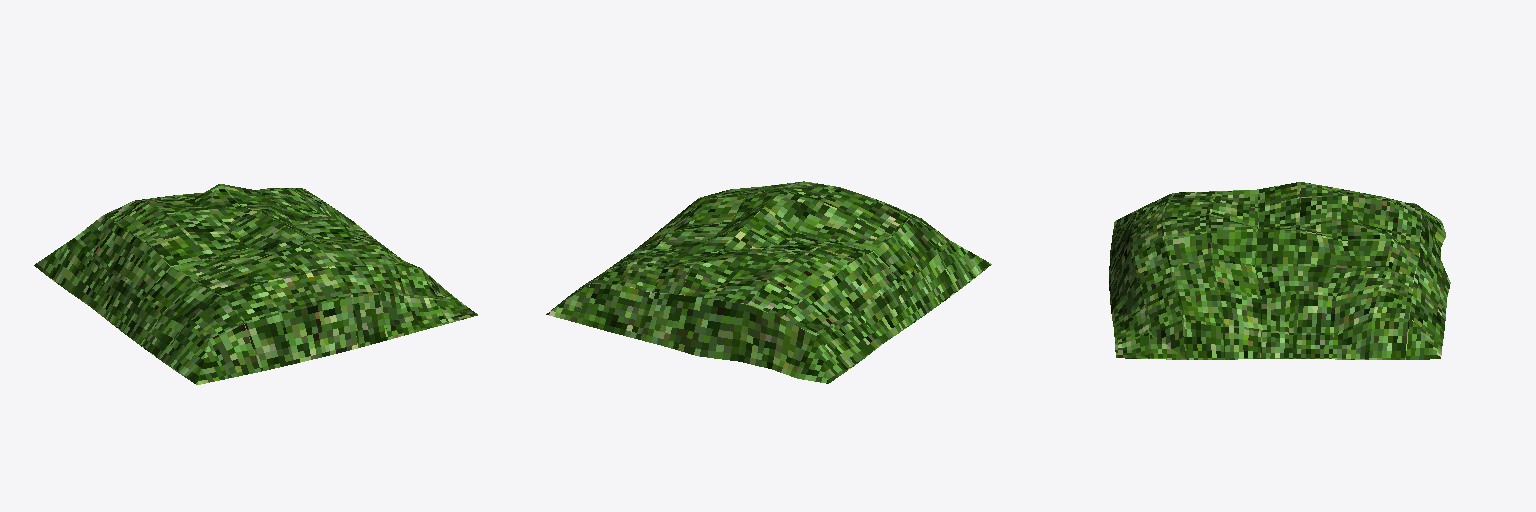
The picture shows the model from 3 angles: view 1: azimuth 30°, elevation 25°; view 2: azimuth 150°, elevation 25°; view 3: azimuth 270°, elevation 25°; orthographic projection.
Size of the model in its own units: 16.35 by 3.82 by 16.82.
Materials: 1 (1 with a texture image).